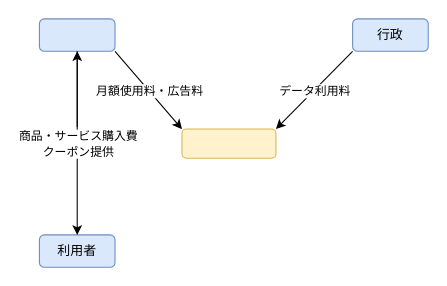
Image size: 447x286. Some labels were removed from this diagram. The centre of each missing label's shape, as x and y in pixels:
"事業者" belongs at [76,34].
"運営(Share)" belongs at [228,143].
